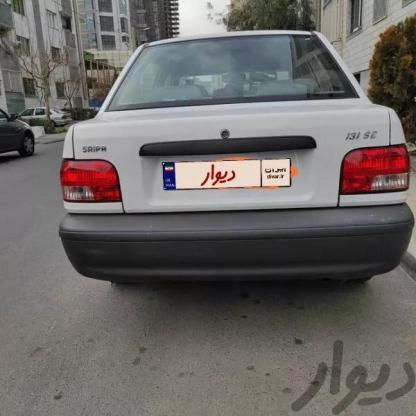Car: (53, 23, 410, 317), (0, 108, 40, 169), (17, 104, 70, 130)
